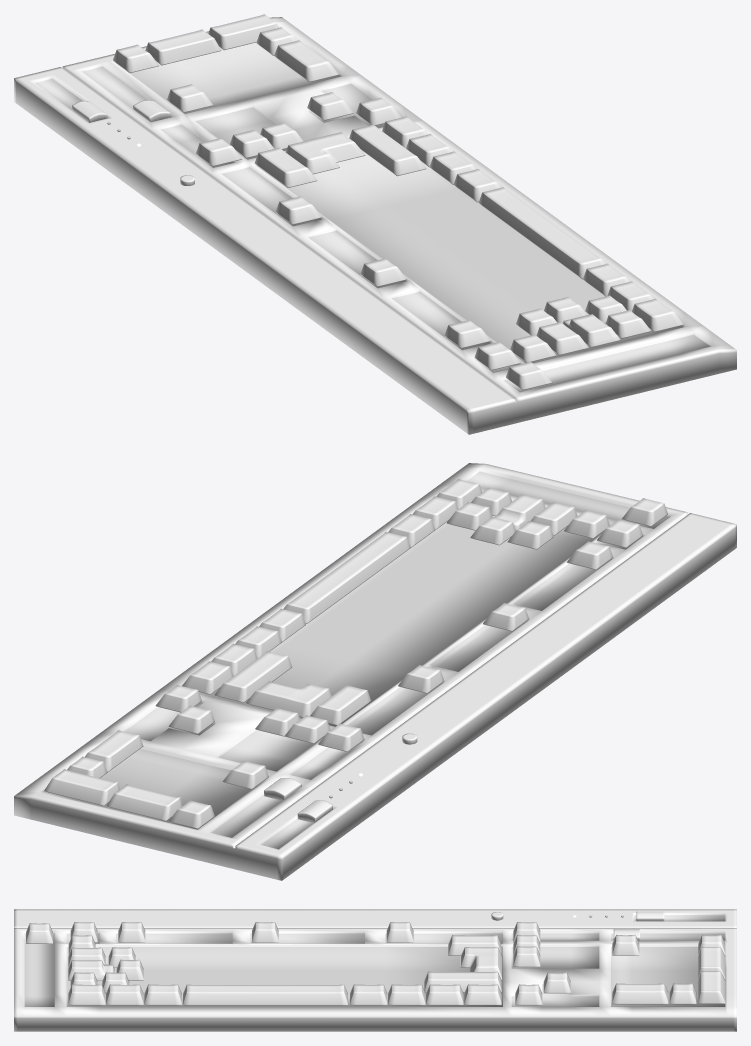
The model's file is clavierrr.glb.
3 renders of one model, top to bottom at view 1: azimuth 30°, elevation 25°; view 2: azimuth 150°, elevation 25°; view 3: azimuth 270°, elevation 25°, orthographic. The views are drawn at different scales.
Visible parts, largest first — view 1: Cube.041, Cube.032, Cube.033, Cube.024, Cube.037, Cube.034, Cube.025, Cube.036, Cube.015, Cube.014, Cube.017, Cube.020 (+20 smaller); view 2: Cube.041, Cube.032, Cube.024, Cube.033, Cube.037, Cube.036, Cube.025, Cube.034, Cube.023, Cube.015, Cube.012, Cube.031 (+21 smaller); view 3: Cube.041, Cube.032, Cube.034, Cube.024, Cube.033, Cube.036, Cube.025, Cube.017, Cube.018, Cube.019, Cube.023, Cube.020 (+24 smaller).
Boxes of the visible parts, box(x1,y1,x2,y2) form: Cube.041: box(14, 17, 736, 434); Cube.032: box(478, 187, 605, 279); Cube.033: box(285, 132, 365, 174); Cube.024: box(349, 124, 426, 176); Cube.037: box(145, 29, 221, 65); Cube.034: box(274, 40, 338, 82); Cube.025: box(254, 147, 317, 187); Cube.036: box(208, 14, 278, 50); Cube.015: box(563, 314, 620, 347); Cube.014: box(536, 322, 588, 355); Cube.017: box(632, 298, 683, 332); Cube.020: box(453, 169, 500, 202); Cube.041: box(14, 463, 736, 880); Cube.032: box(283, 531, 410, 623); Cube.024: box(214, 651, 292, 702); Cube.033: box(246, 681, 331, 717); Cube.037: box(106, 784, 182, 821); Cube.036: box(44, 769, 119, 805); Cube.025: box(310, 685, 370, 725); Cube.034: box(85, 730, 143, 772); Cube.023: box(182, 661, 233, 694); Cube.015: box(494, 494, 545, 530); Cube.012: box(621, 498, 667, 526); Cube.031: box(222, 760, 268, 789); Cube.041: box(14, 909, 736, 1031); Cube.032: box(183, 984, 347, 1005); Cube.034: box(612, 983, 668, 1004); Cube.024: box(424, 971, 501, 992); Cube.033: box(460, 947, 502, 979); Cube.036: box(698, 971, 725, 1003); Cube.025: box(448, 935, 501, 955); Cube.017: box(68, 984, 105, 1005); Cube.018: box(106, 984, 143, 1005); Cube.019: box(144, 984, 181, 1005); Cube.023: box(464, 984, 501, 1005); Cube.020: box(350, 984, 387, 1005).
Size of the model in its own units: 0.1795 by 0.0236 by 0.528.
5 materials, 1 textured.
